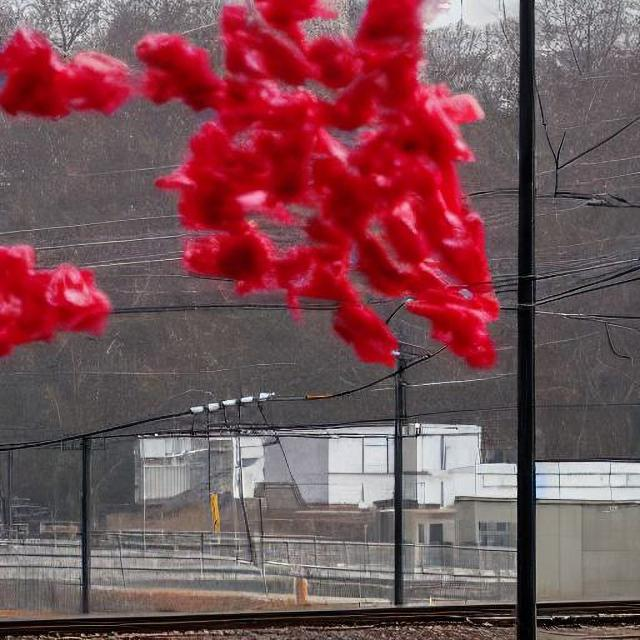floating object: (210, 489, 221, 533)
plastic bag: (99, 0, 493, 367), (5, 21, 150, 133), (0, 237, 112, 354)
